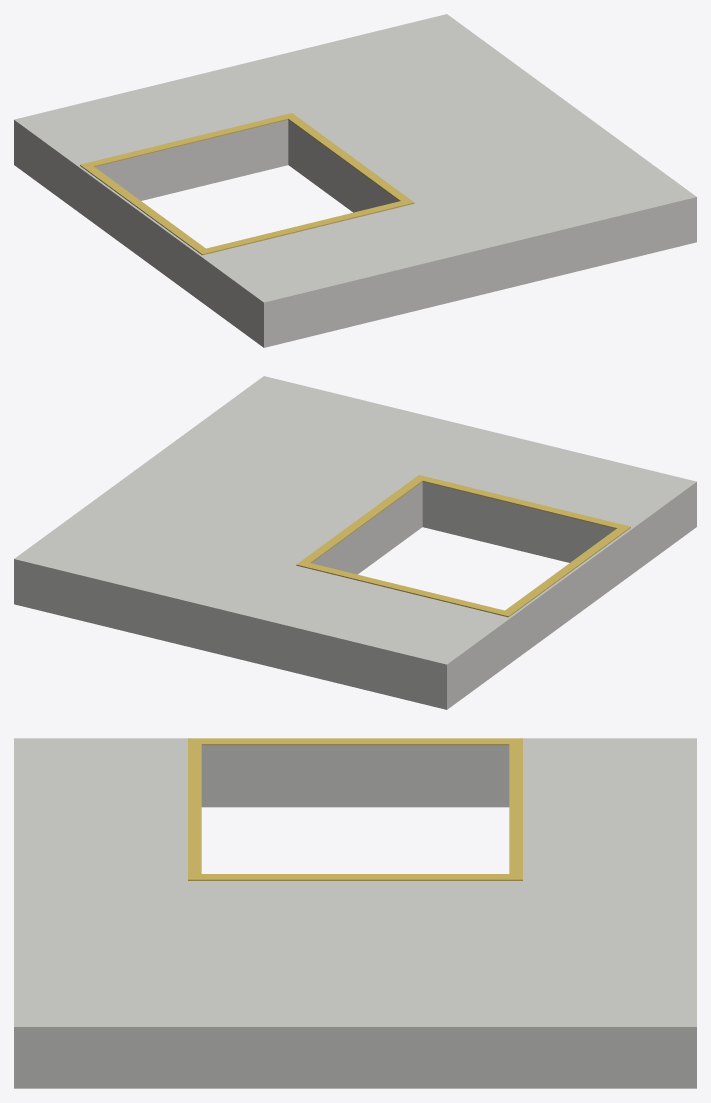
The model's file is floorHatch_concrete.glb.
The picture shows the model from 3 angles, top to bottom: view 1: azimuth 30°, elevation 25°; view 2: azimuth 150°, elevation 25°; view 3: azimuth 270°, elevation 25°; orthographic projection. The views are drawn at different scales.
Visible parts, largest first — view 1: floorHatch_concrete; view 2: floorHatch_concrete; view 3: floorHatch_concrete.
Boxes of the visible parts, left/top/right/bottom form: floorHatch_concrete: left=14, top=14, right=696, bottom=347; floorHatch_concrete: left=14, top=376, right=696, bottom=709; floorHatch_concrete: left=14, top=738, right=696, bottom=1088.
Bounding box in the file's own units: 2 × 0.205 × 2.
